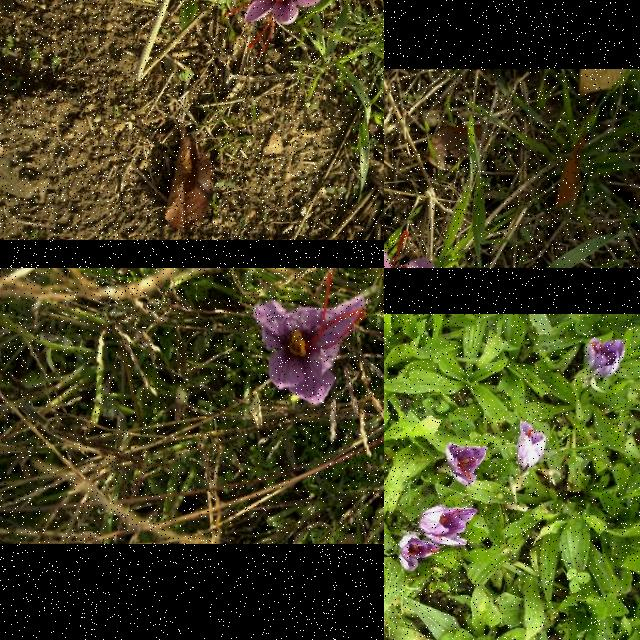flower: (254, 271, 366, 405), (225, 0, 323, 55), (417, 505, 479, 547), (384, 232, 445, 268), (446, 442, 490, 488), (517, 418, 547, 474), (399, 534, 443, 572), (586, 337, 626, 378)
